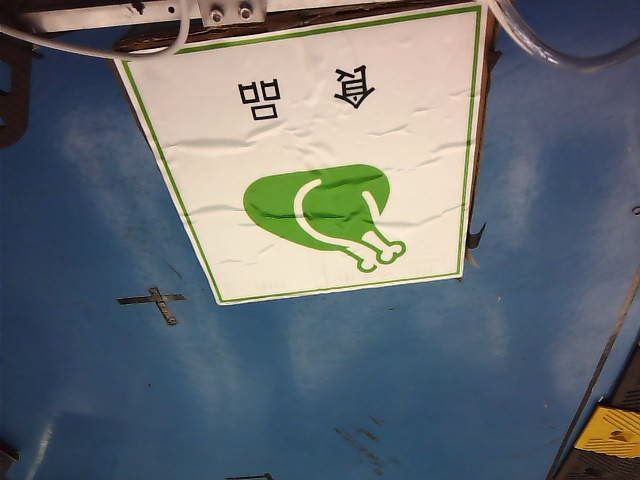Cube_food: (221, 42, 428, 279)
